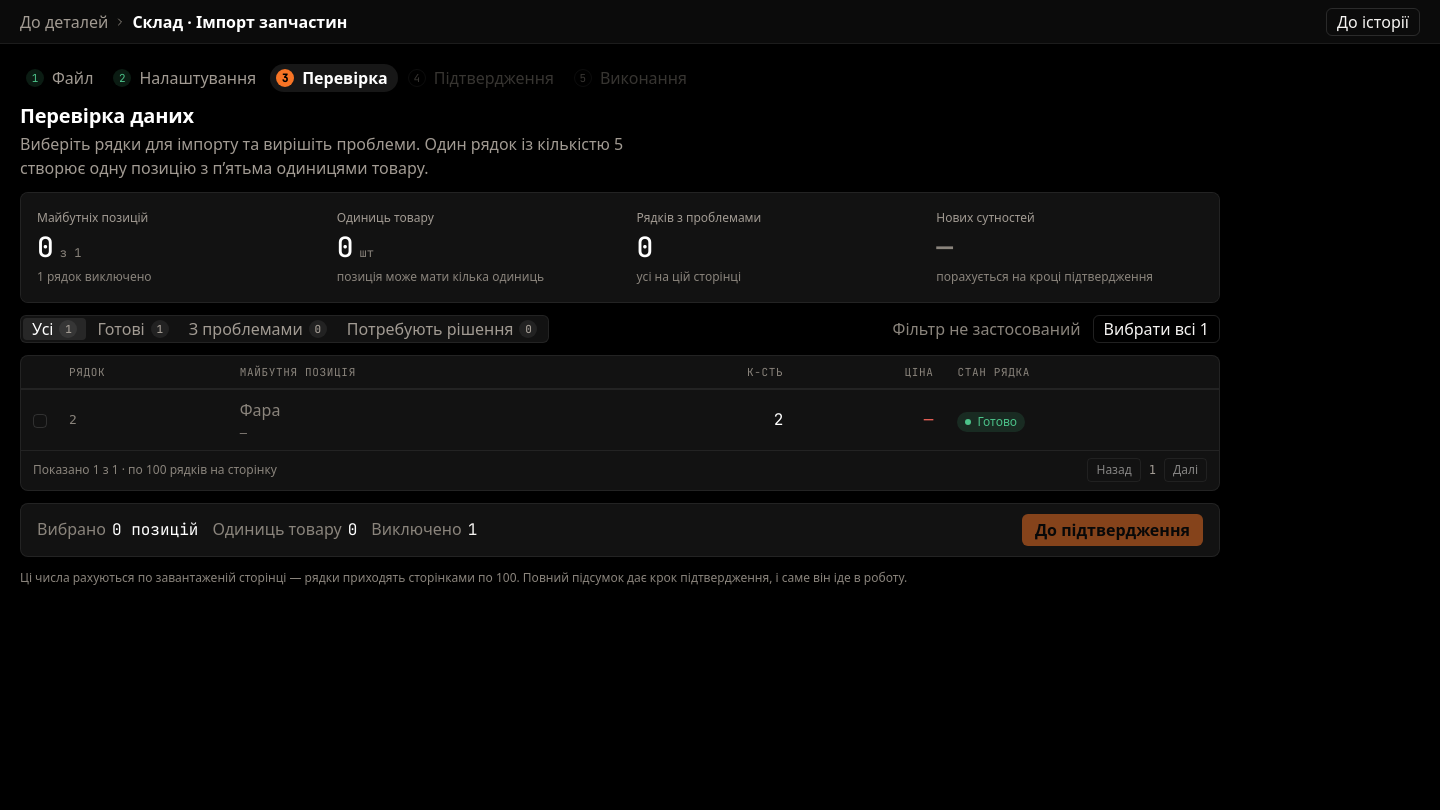
Test: resumes a draft and requires a fresh server validation before commit
The image size is (1440, 810).
Expected: the text "Фара" is shown, x1=240 y1=398 x2=280 y2=420
Expected: the button "До підтвердження" is disabled, x1=1022 y1=514 x2=1203 y2=546
Click the checkbox named "Імпортувати рядок 2" at [40, 421], box x1=33 y1=414 x2=47 y2=428
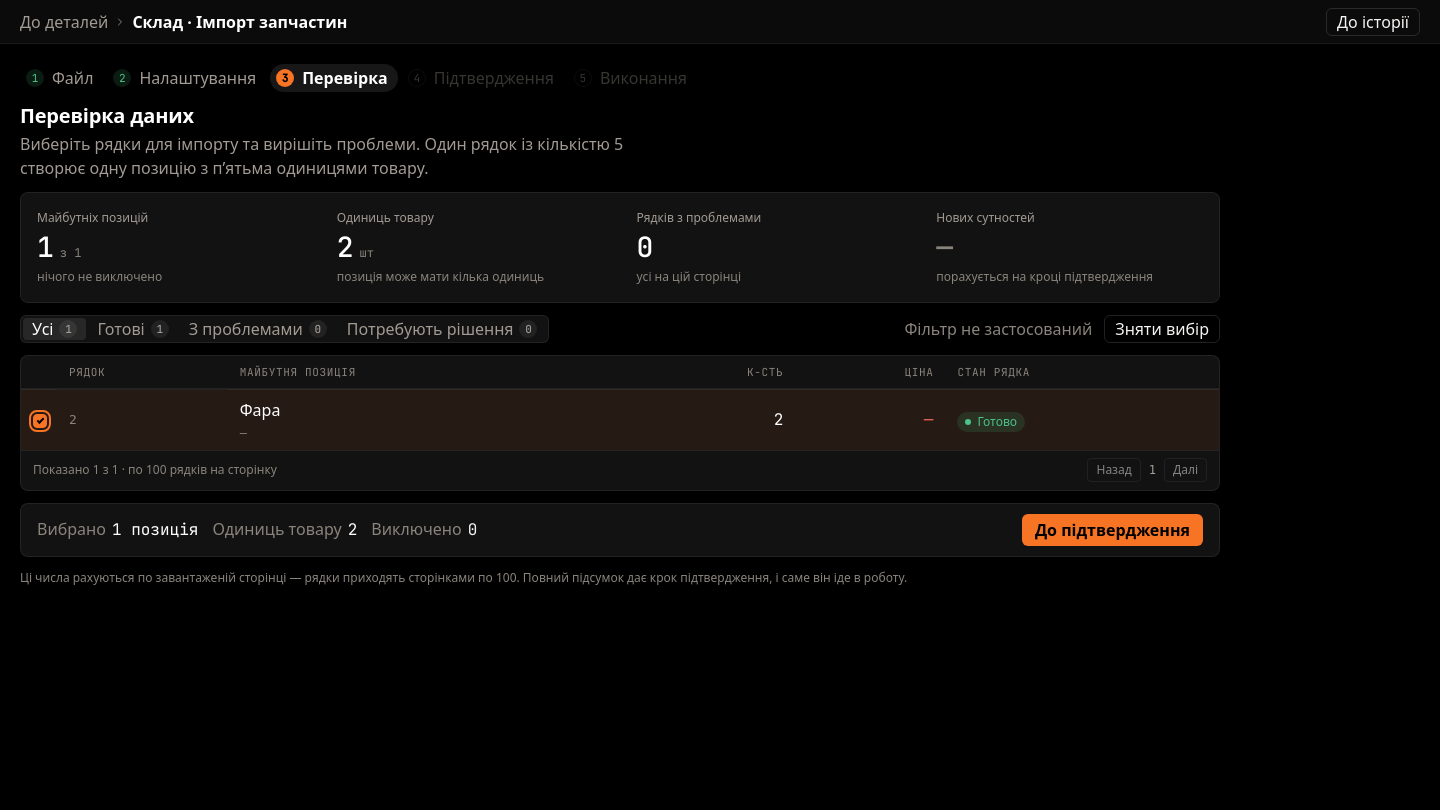
Click the button "До підтвердження" at [1112, 530], box x1=1022 y1=514 x2=1203 y2=546
(page scrolled)
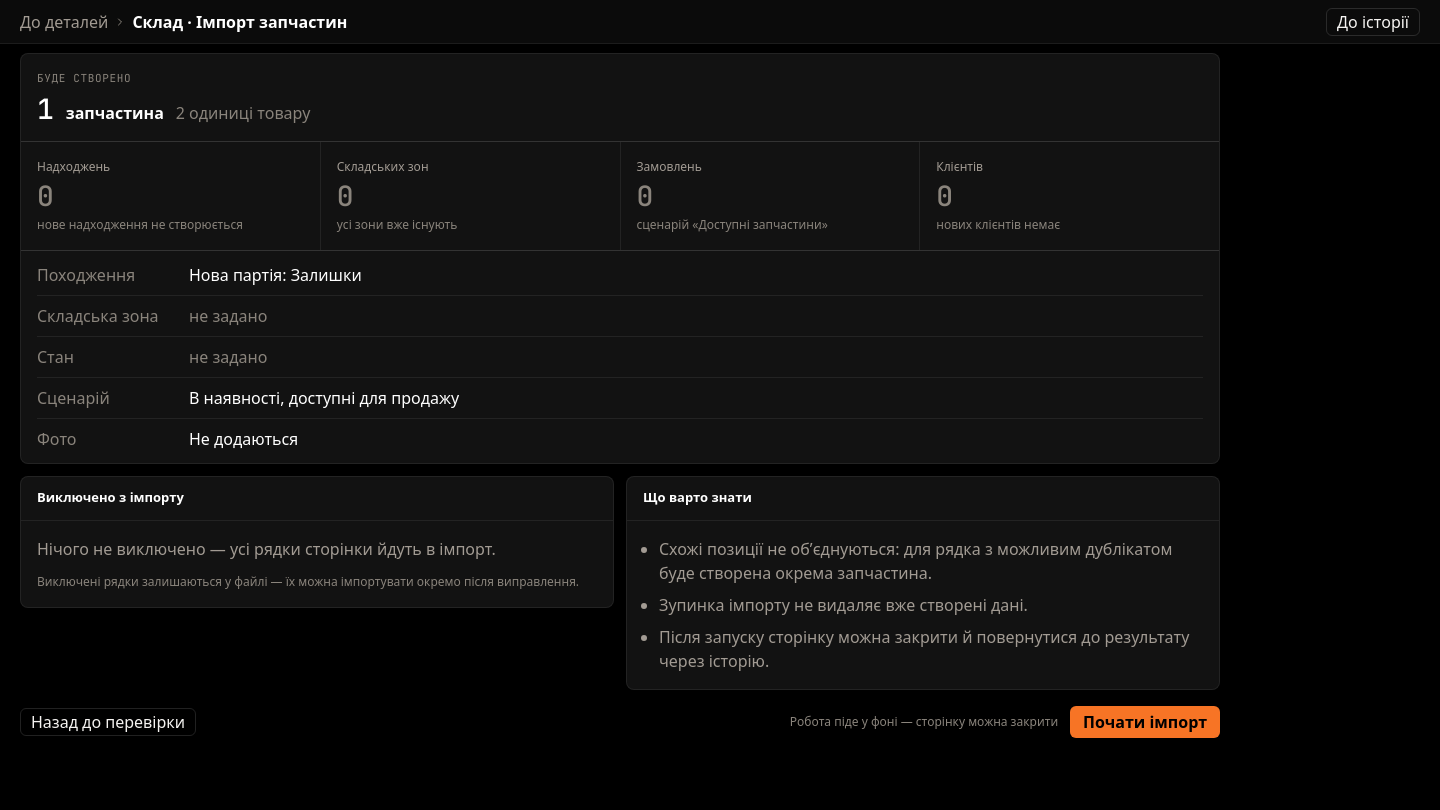
Now the element "Буде створено" is shown, box x1=20 y1=53 x2=1220 y2=464
Click the button "Почати імпорт" at [1145, 722], box x1=1070 y1=706 x2=1220 y2=738
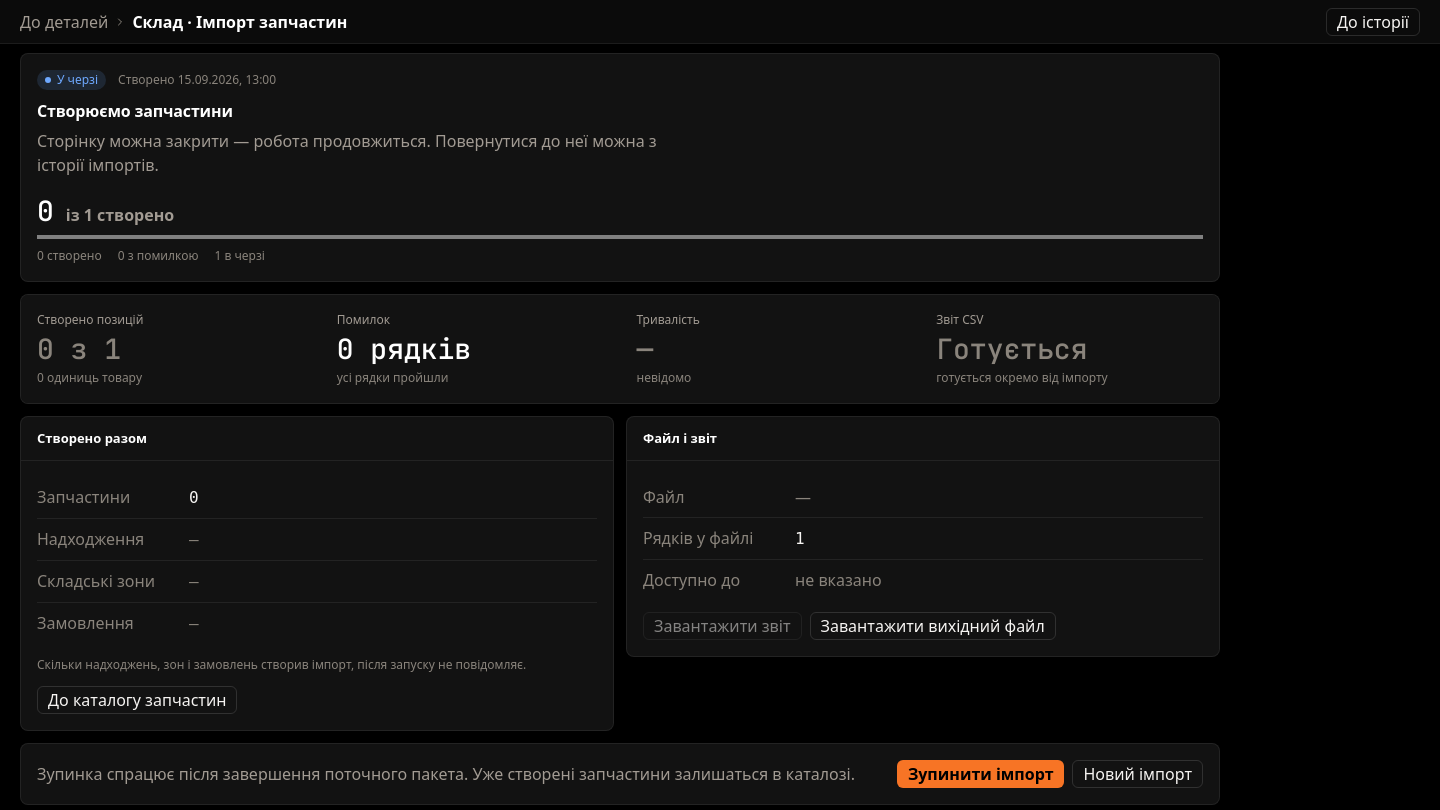
Now the element named "Стан імпорту" is shown, box x1=20 y1=53 x2=1220 y2=282
